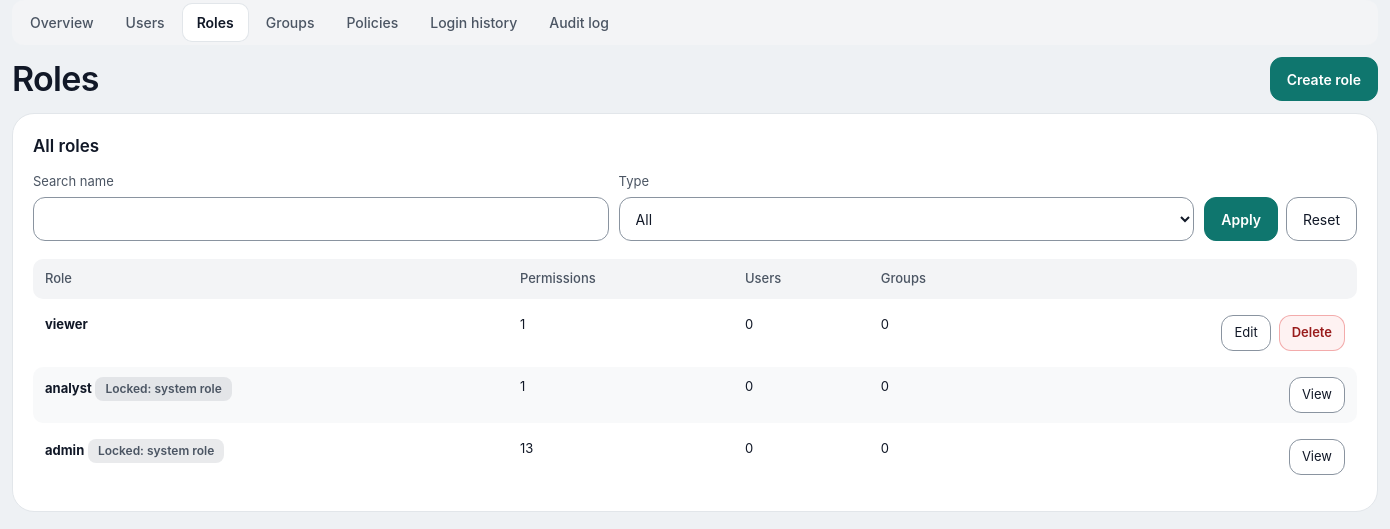
Scenario: IAM roles › filters by name and type
Select "System" in the dropdown labelled "Type" at (906, 219), box left=619, top=197, right=1194, bottom=241
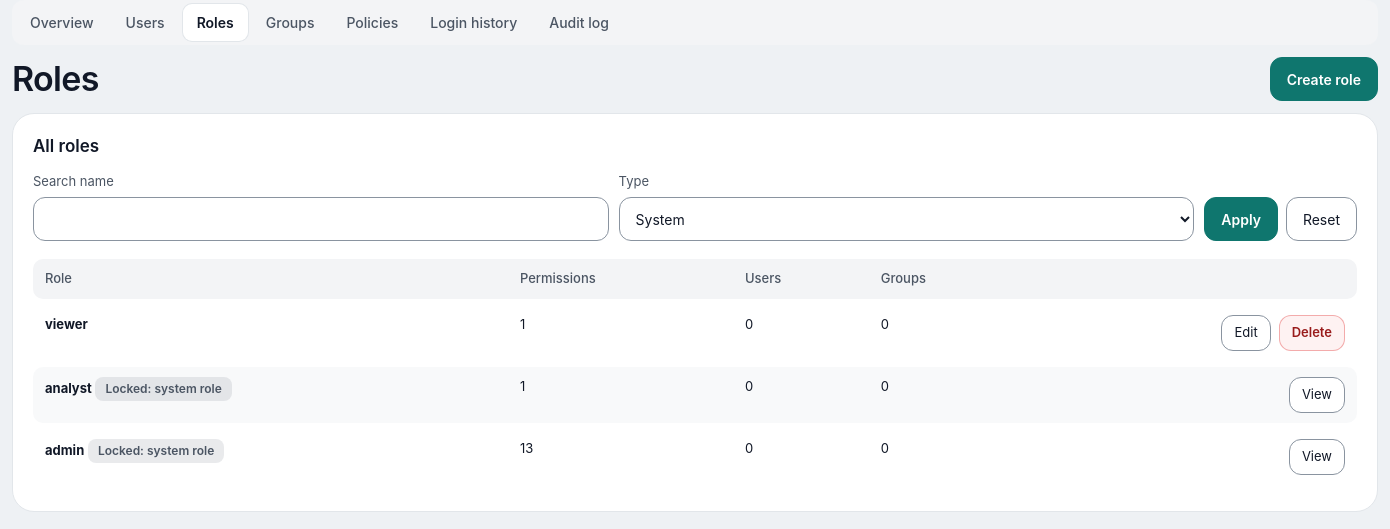
Click the button "Apply" at (1241, 219), box left=1204, top=197, right=1278, bottom=241
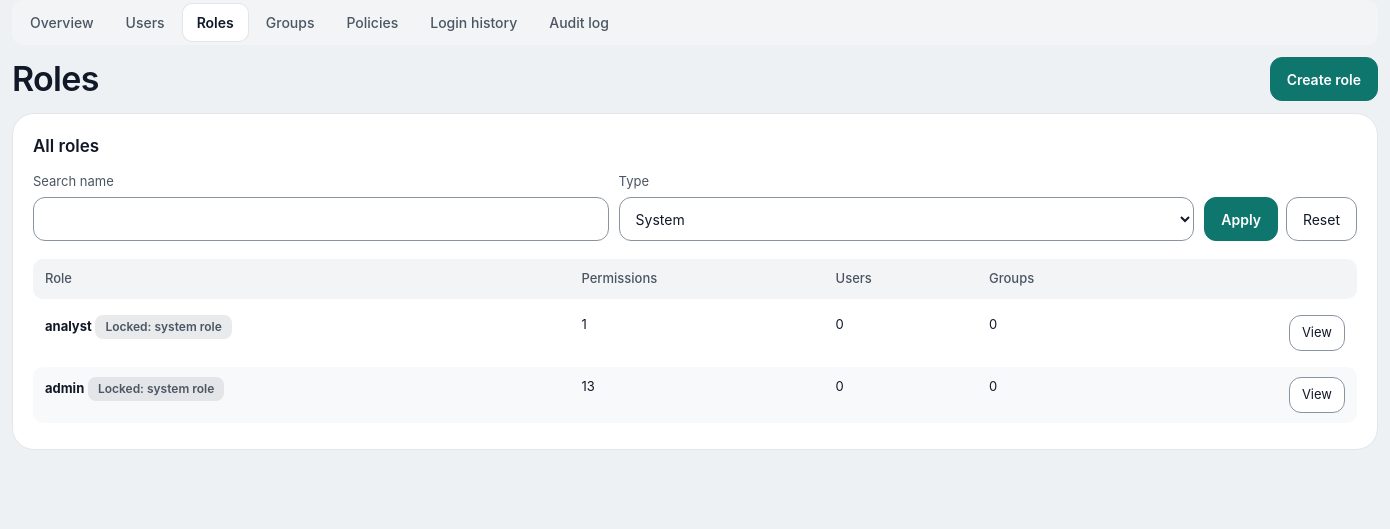
Now the text "viewer" is gone
Now the number of cells "analyst Locked: system role" is 2, box left=33, top=304, right=569, bottom=360; left=33, top=366, right=569, bottom=422
Type "zzz" into the field labelled "Search name" at (321, 219), box left=33, top=197, right=609, bottom=241
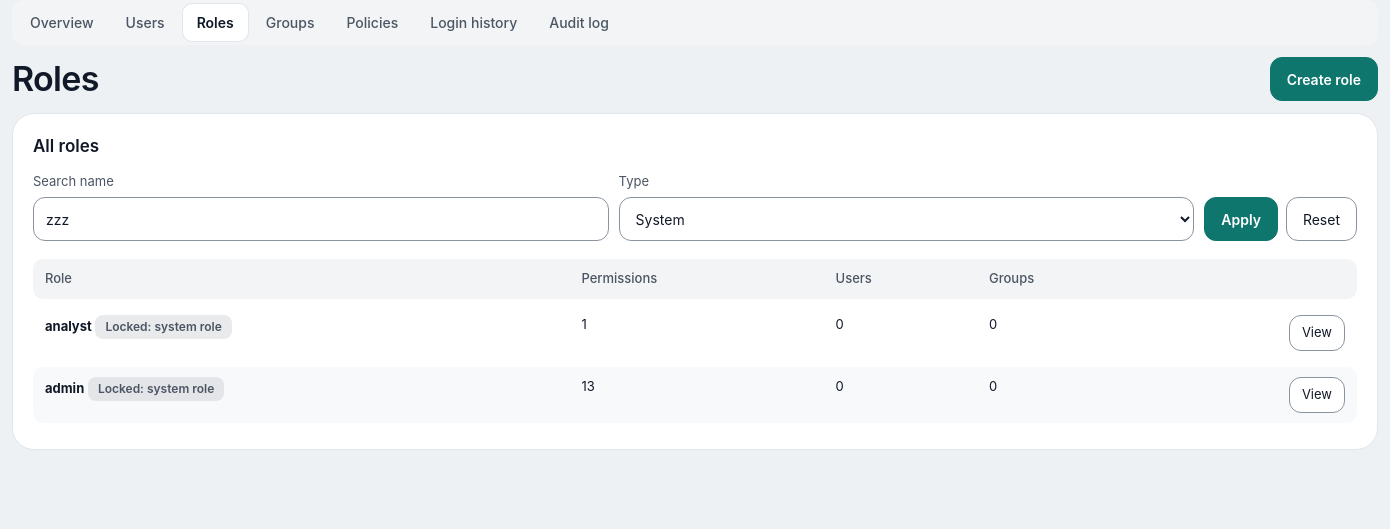
Click the button "Apply" at (1241, 219), box left=1204, top=197, right=1278, bottom=241
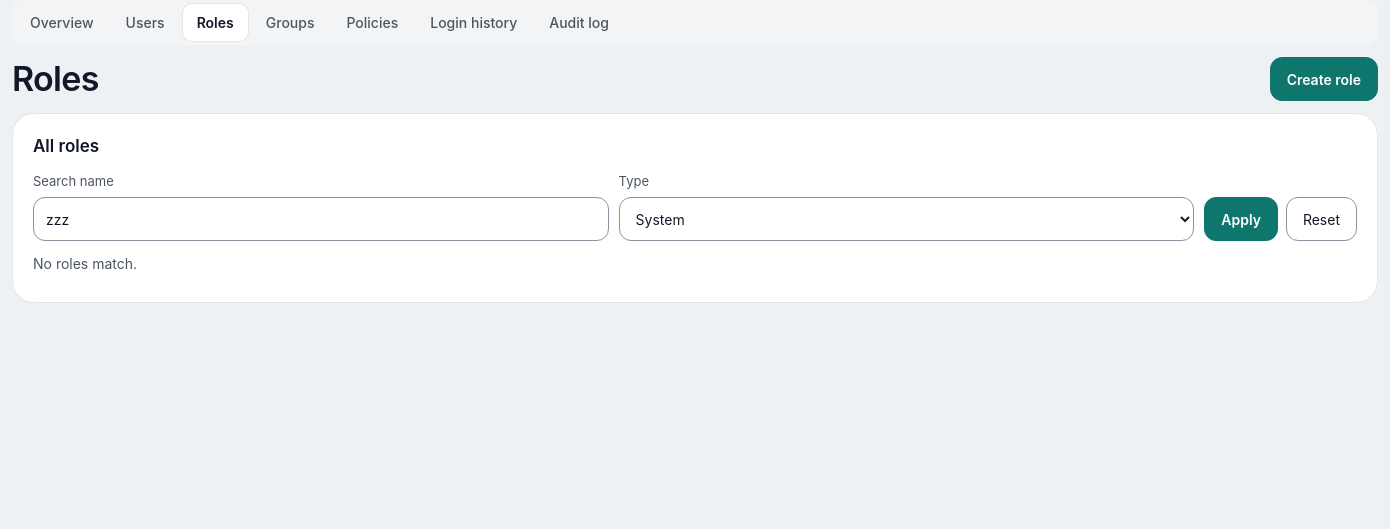
Now the text "No roles match." is shown, box left=33, top=255, right=137, bottom=272
